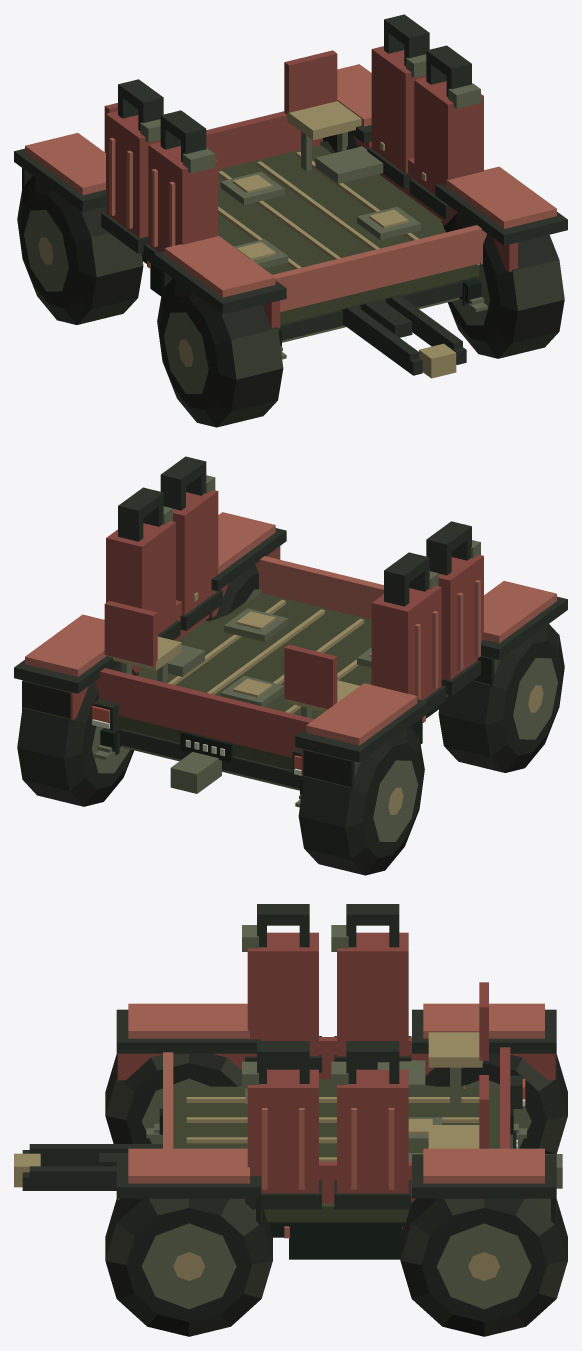
Rendered from wagon_fuel.obj.
3 views of the same model, one above another, from view 1: azimuth 30°, elevation 25°; view 2: azimuth 150°, elevation 25°; view 3: azimuth 270°, elevation 25° (orthographic). The views are drawn at different scales.
Parts seen in each view (by area): view 1: WagonDeck.003, WagonDetails_fuel, AllTerrainTire.012, AllTerrainTire.014, AllTerrainTire.013, DrawbarFrame.003; view 2: WagonDeck.003, WagonDetails_fuel, AllTerrainTire.014, AllTerrainTire.012, AllTerrainTire.015, AllTerrainTire.013; view 3: WagonDeck.003, WagonDetails_fuel, AllTerrainTire.015, AllTerrainTire.013, AllTerrainTire.012, AllTerrainTire.014, DrawbarFrame.003.
Boxes of the visible parts, bbox=[...] form: WagonDeck.003: bbox=[14, 50, 567, 365]; WagonDetails_fuel: bbox=[101, 14, 483, 270]; AllTerrainTire.012: bbox=[157, 278, 283, 427]; AllTerrainTire.014: bbox=[17, 176, 143, 324]; AllTerrainTire.013: bbox=[443, 212, 564, 358]; DrawbarFrame.003: bbox=[343, 301, 466, 378]; WagonDeck.003: bbox=[14, 512, 567, 807]; WagonDetails_fuel: bbox=[106, 456, 483, 726]; AllTerrainTire.014: bbox=[298, 726, 424, 875]; AllTerrainTire.012: bbox=[438, 624, 564, 772]; AllTerrainTire.015: bbox=[17, 662, 138, 806]; AllTerrainTire.013: bbox=[205, 564, 261, 621]; WagonDeck.003: bbox=[29, 982, 562, 1259]; WagonDetails_fuel: bbox=[242, 904, 411, 1209]; AllTerrainTire.015: bbox=[400, 1198, 567, 1336]; AllTerrainTire.013: bbox=[105, 1198, 272, 1336]; AllTerrainTire.012: bbox=[105, 1053, 241, 1143]; AllTerrainTire.014: bbox=[425, 1053, 567, 1153]; DrawbarFrame.003: bbox=[14, 1150, 116, 1190].
Bounding box in the file's own units: 4.48 × 3.18 × 5.82.
2 materials, 2 textured.
